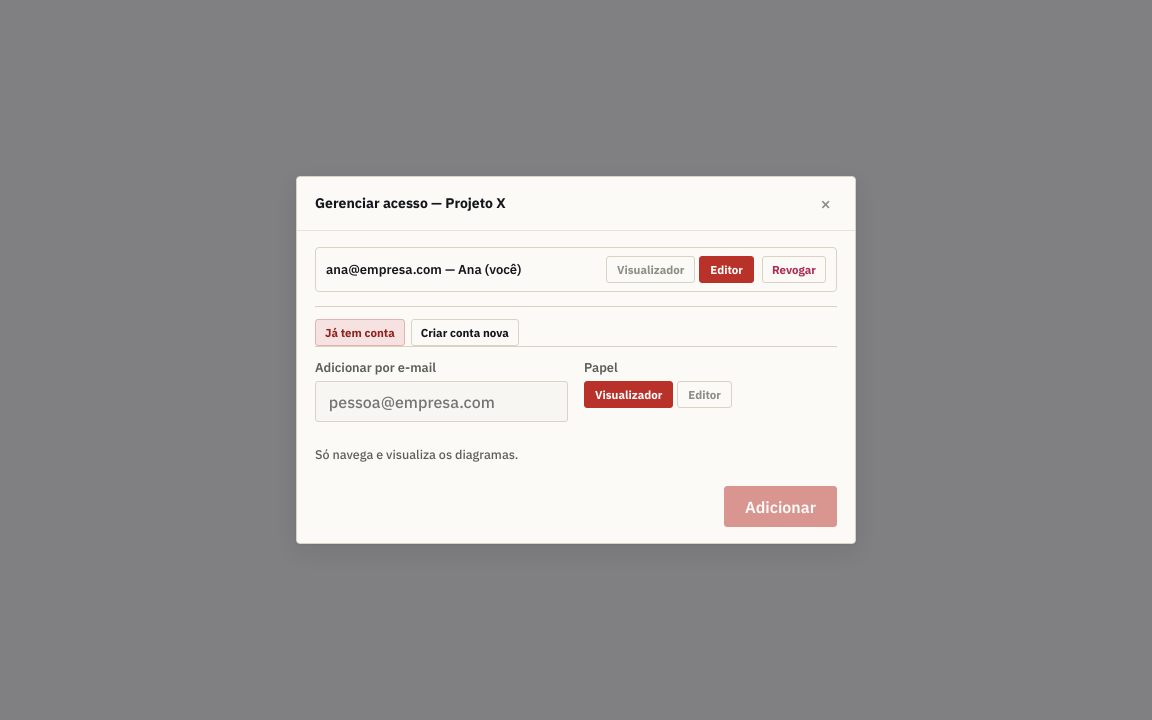
Test case: AccessManagementModal (TASK-013) › mostra erro e não trava a UI quando addMember rejeita (ex.: já vinculado)
This screenshot has width=1152, height=720.
Expected: the text "ana@empresa.com — Ana (você)" is shown, [326,260,522,278]
Type "existe@empresa.com" into the field labelled "Adicionar por e-mail". click: x=442, y=402
box: [315,381,568,422]
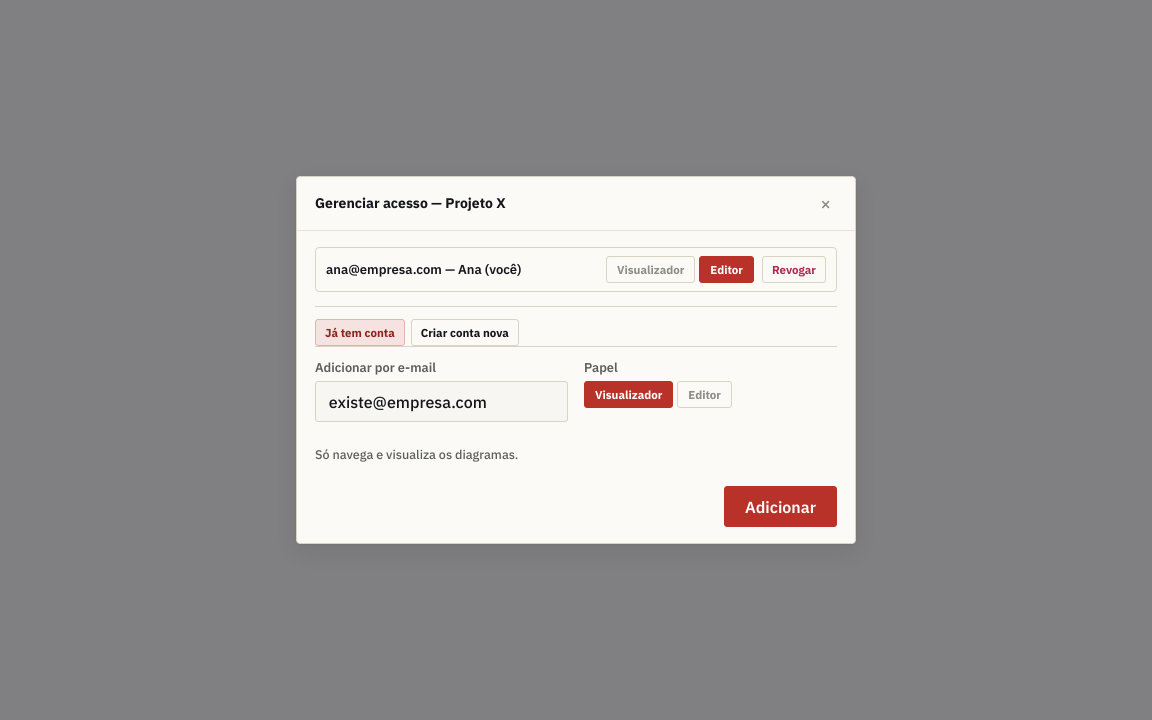
Click the button "Adicionar". click: x=780, y=507
box: [724,486,837,528]
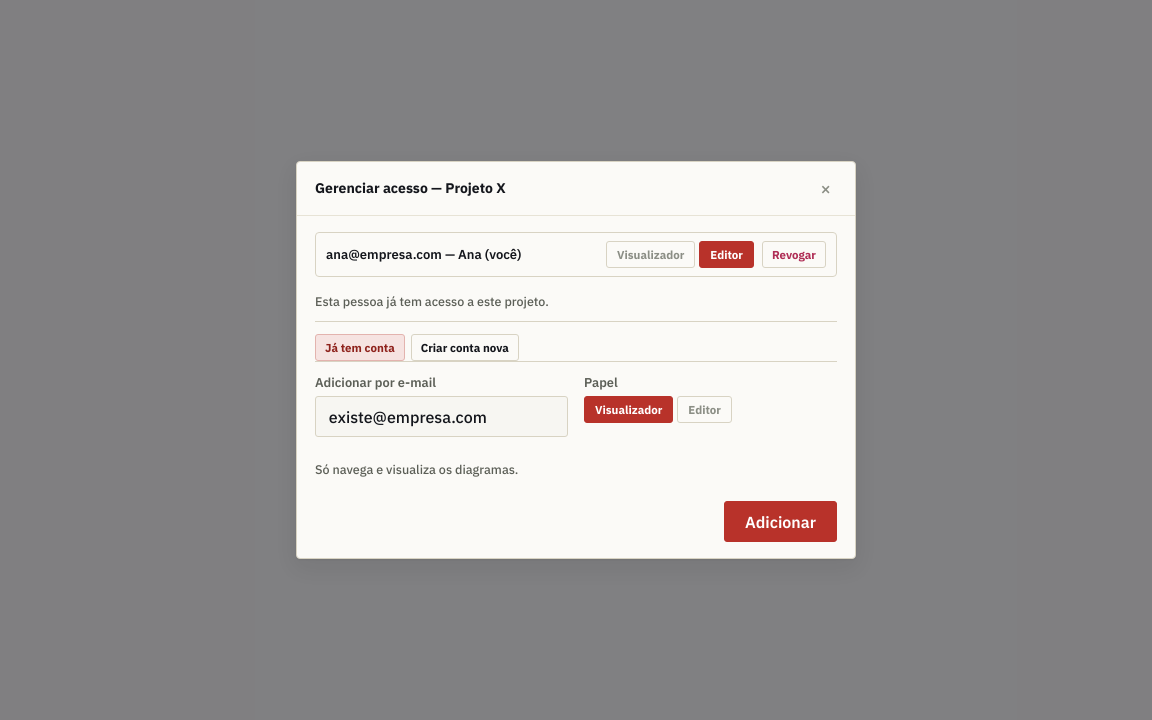
Result: the text "Esta pessoa já tem acesso a este projeto." is shown at [315,292,549,308]
